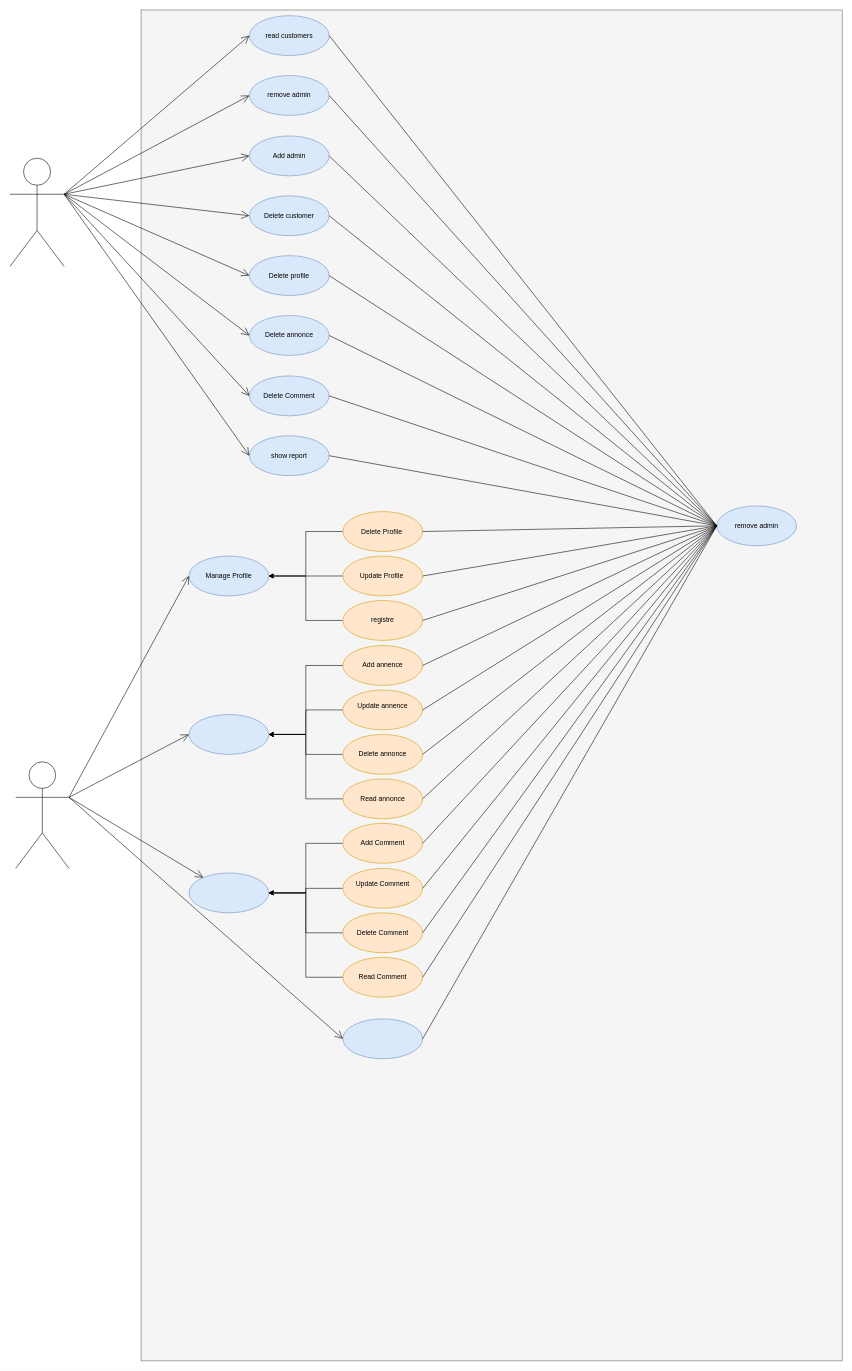
Image size: 852x1371. Some labels were removed from this diagram. Here are the shapes that lost their labels. From the top down, the centre of each, then its label:
At (x=36, y=212): "Admin".
At (x=228, y=734): "Manage annence".
At (x=42, y=814): "Customer".
At (x=228, y=892): "Manage Comment".
At (x=382, y=1038): "Report".
